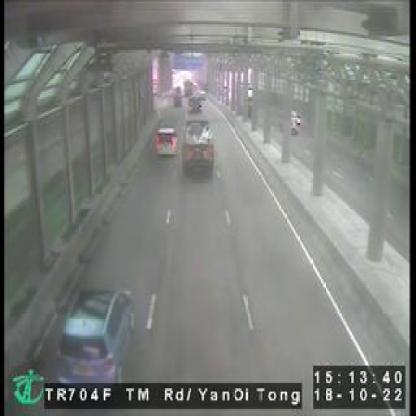Car: (56, 288, 134, 382), (152, 125, 179, 160), (187, 94, 205, 116)
Truck: (180, 116, 215, 182)
